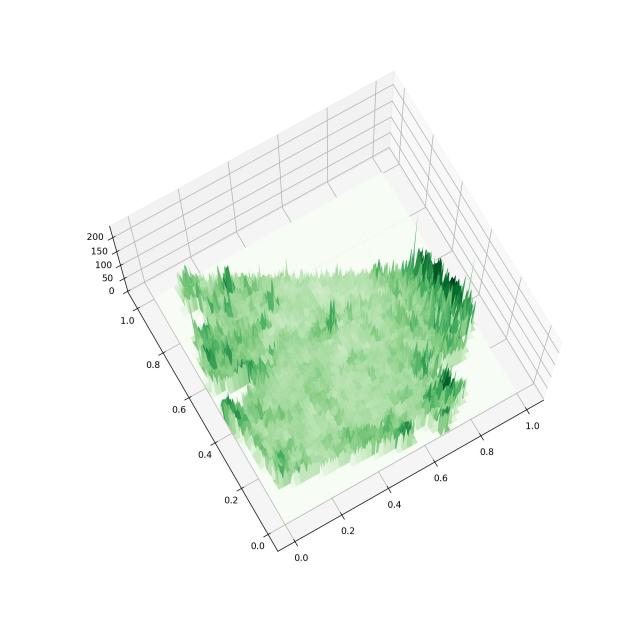fir: (52, 39, 595, 588)
